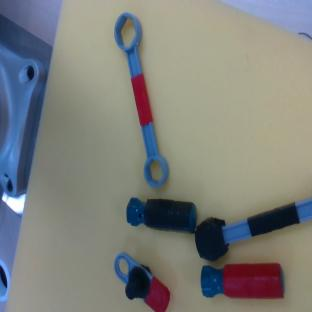part_1_good: (101, 250, 180, 312)
part_2_bad: (124, 194, 199, 234)
part_2_good: (201, 263, 284, 300)
part_3_good: (110, 10, 172, 189)
